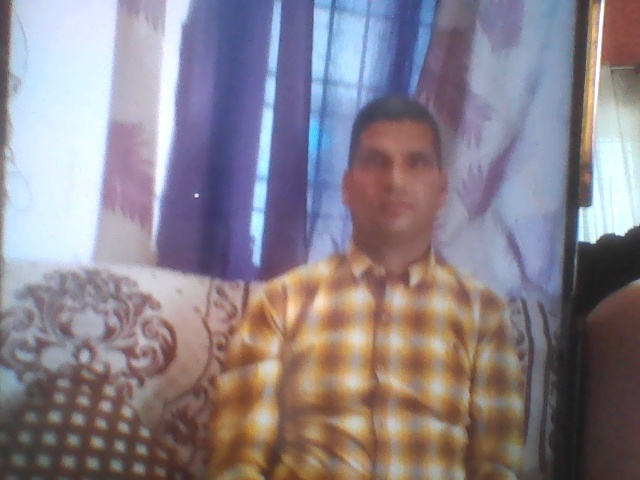fake: (329, 60, 467, 255)
